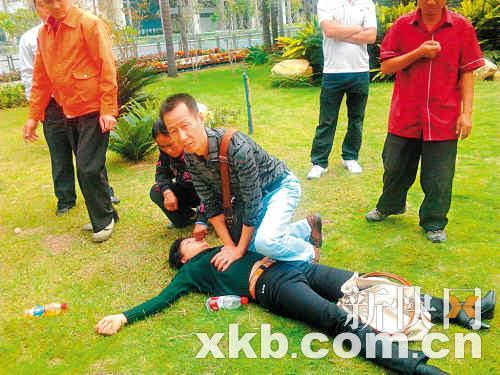bending: (162, 96, 323, 254), (143, 123, 202, 228)
down: (93, 229, 500, 375)
up: (364, 1, 488, 252), (21, 1, 132, 236), (305, 1, 381, 185)
